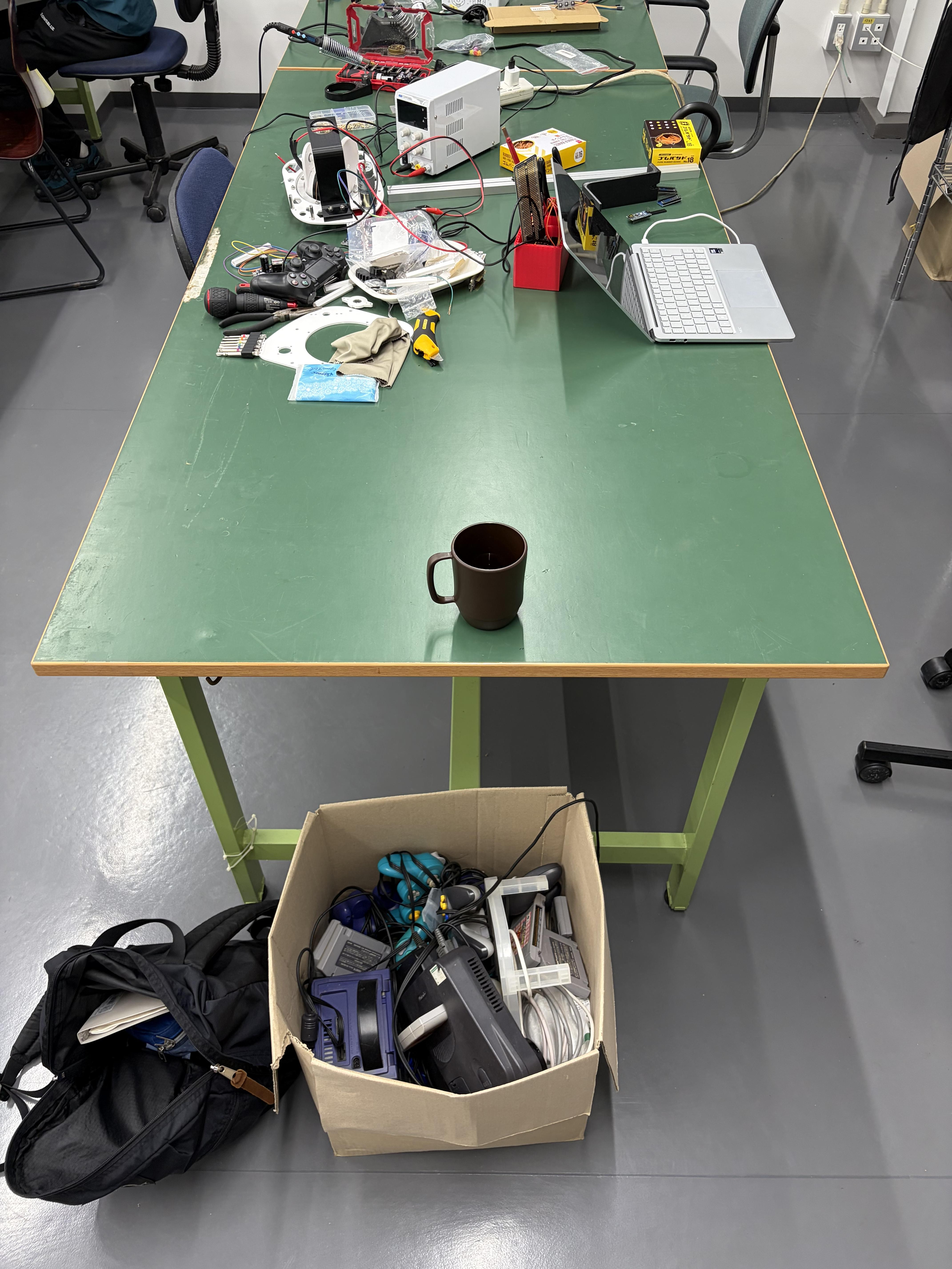mug-real100-3d100: (427, 523, 527, 630)
